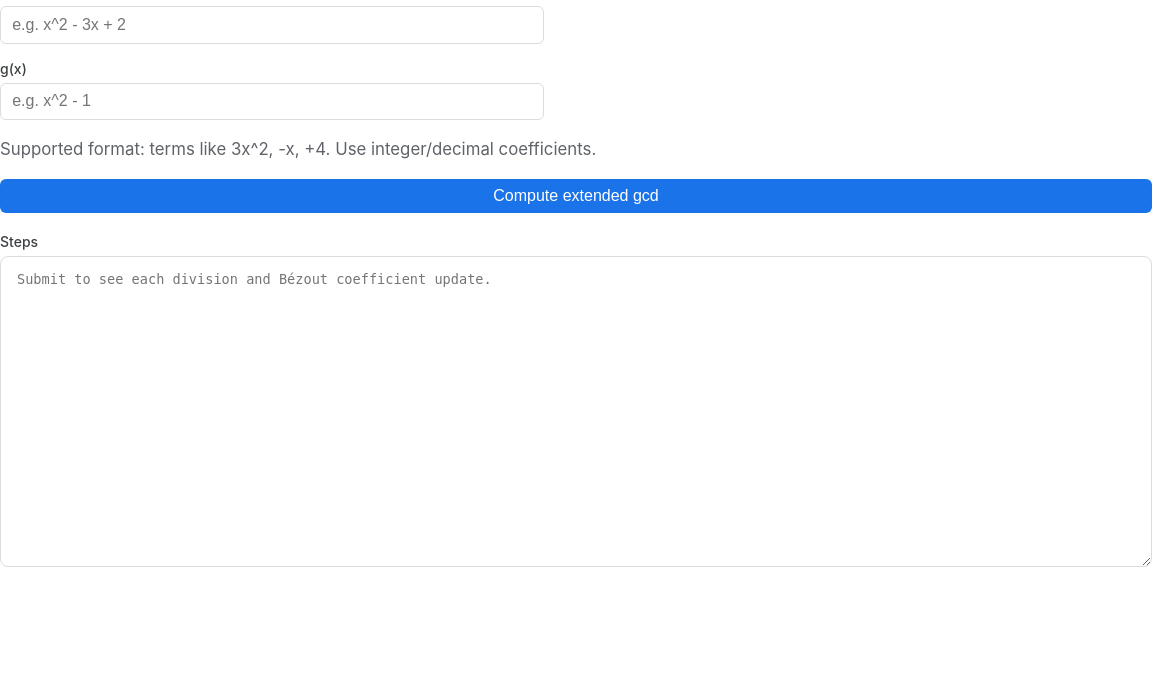
it: PolynomialGcdPage › computes extended gcd and shows d(x), u(x), v(x)
Step 1. Type "x^2-3x+2" into the field labelled "f(x)" → (272, 25), box [0, 6, 544, 44]
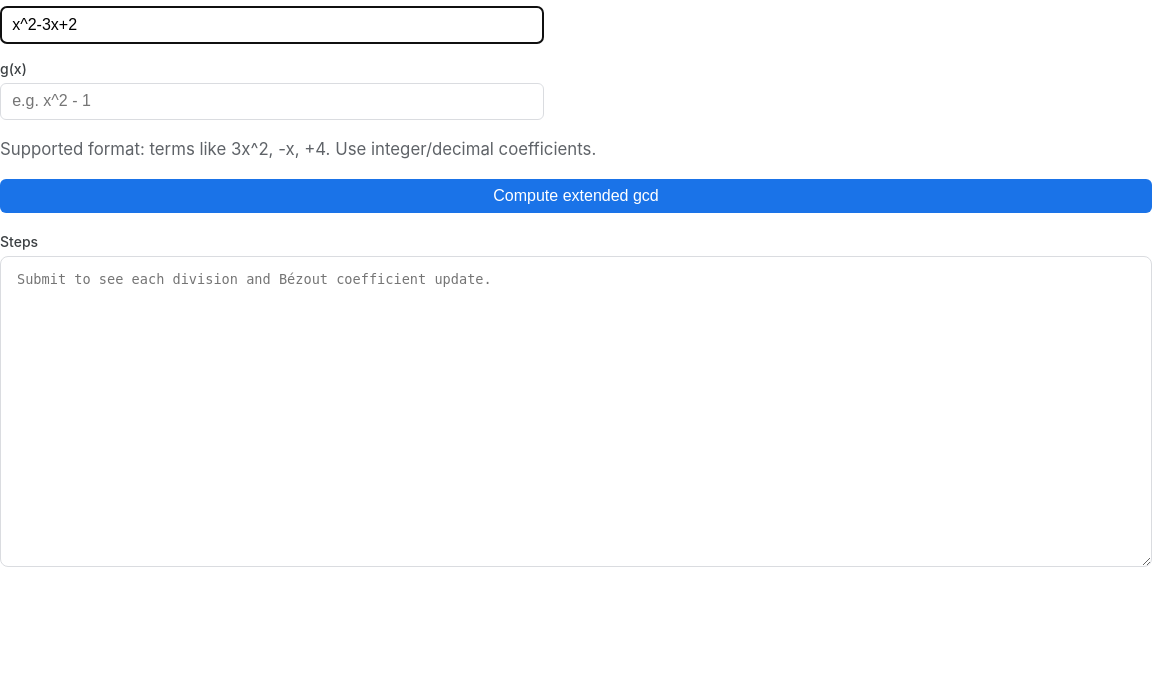
Step 2. Type "x^2-1" into the field labelled "g(x)" → (272, 102), box [0, 83, 544, 120]
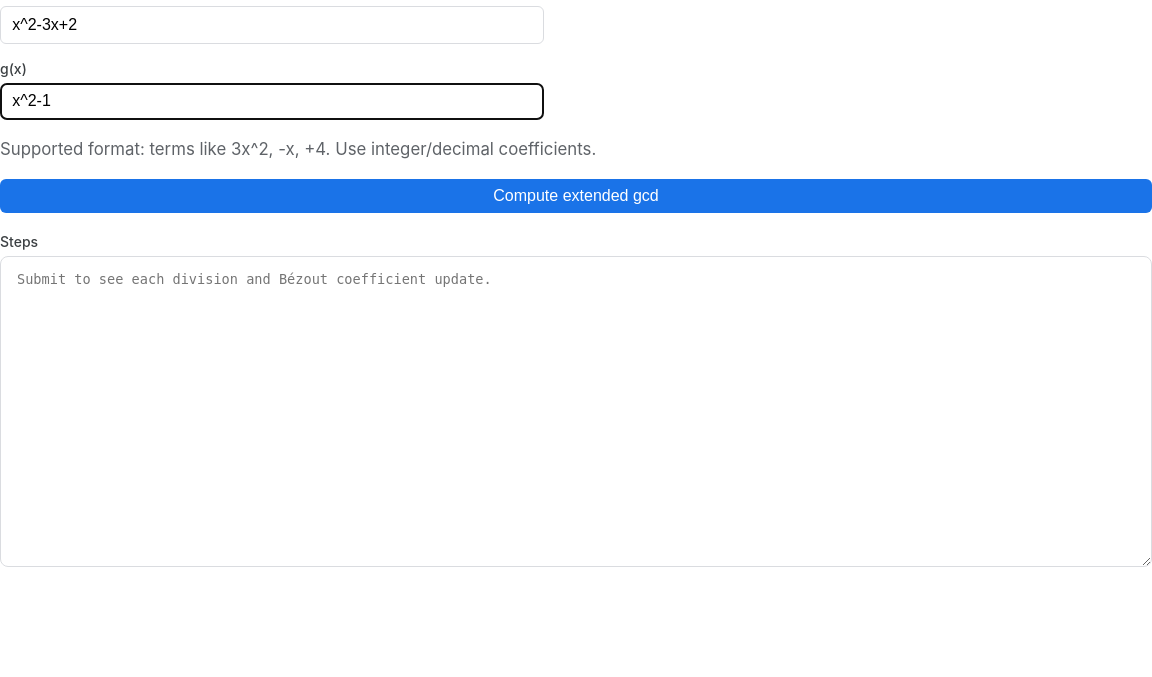
Step 3. Click the button "Compute extended gcd" → click(576, 196), box [0, 179, 1151, 213]
(page scrolled)
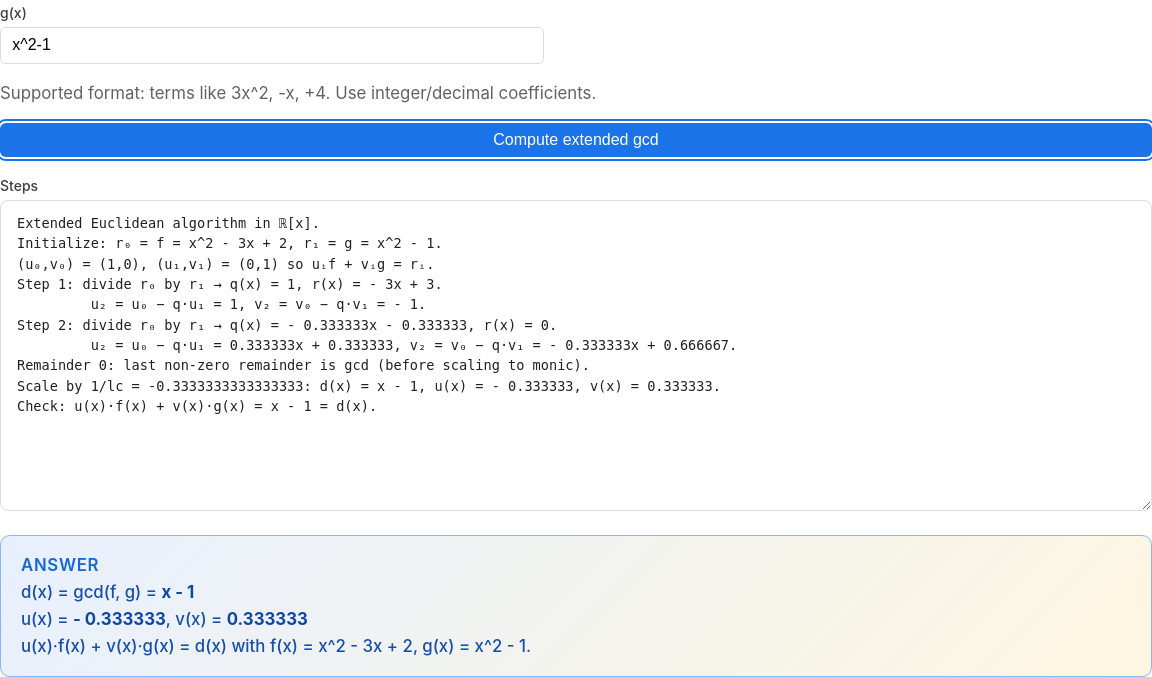
Now the element with test id "poly-gcd-answer" shows "x - 1", box [161, 582, 194, 602]
Now the element with test id "poly-gcd-answer" shows "u(x)", box [21, 609, 73, 629]
Now the element with test id "poly-gcd-answer" shows "v(x)", box [166, 609, 222, 629]
